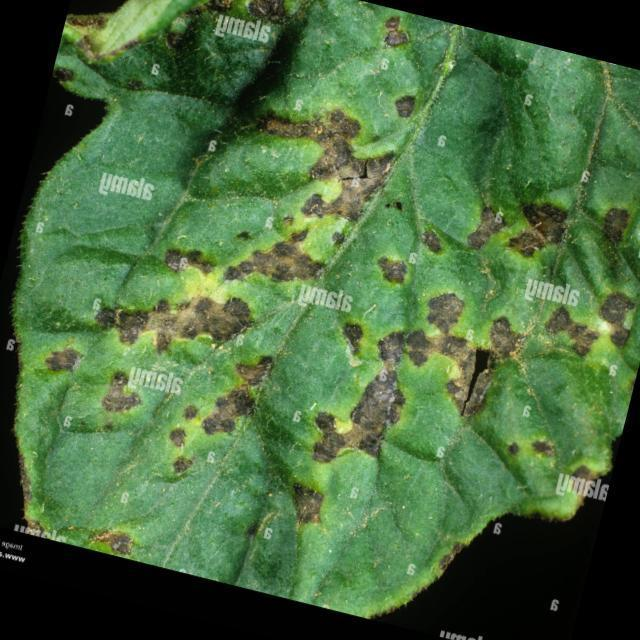Bacterial Spot: (18, 27, 640, 553)
